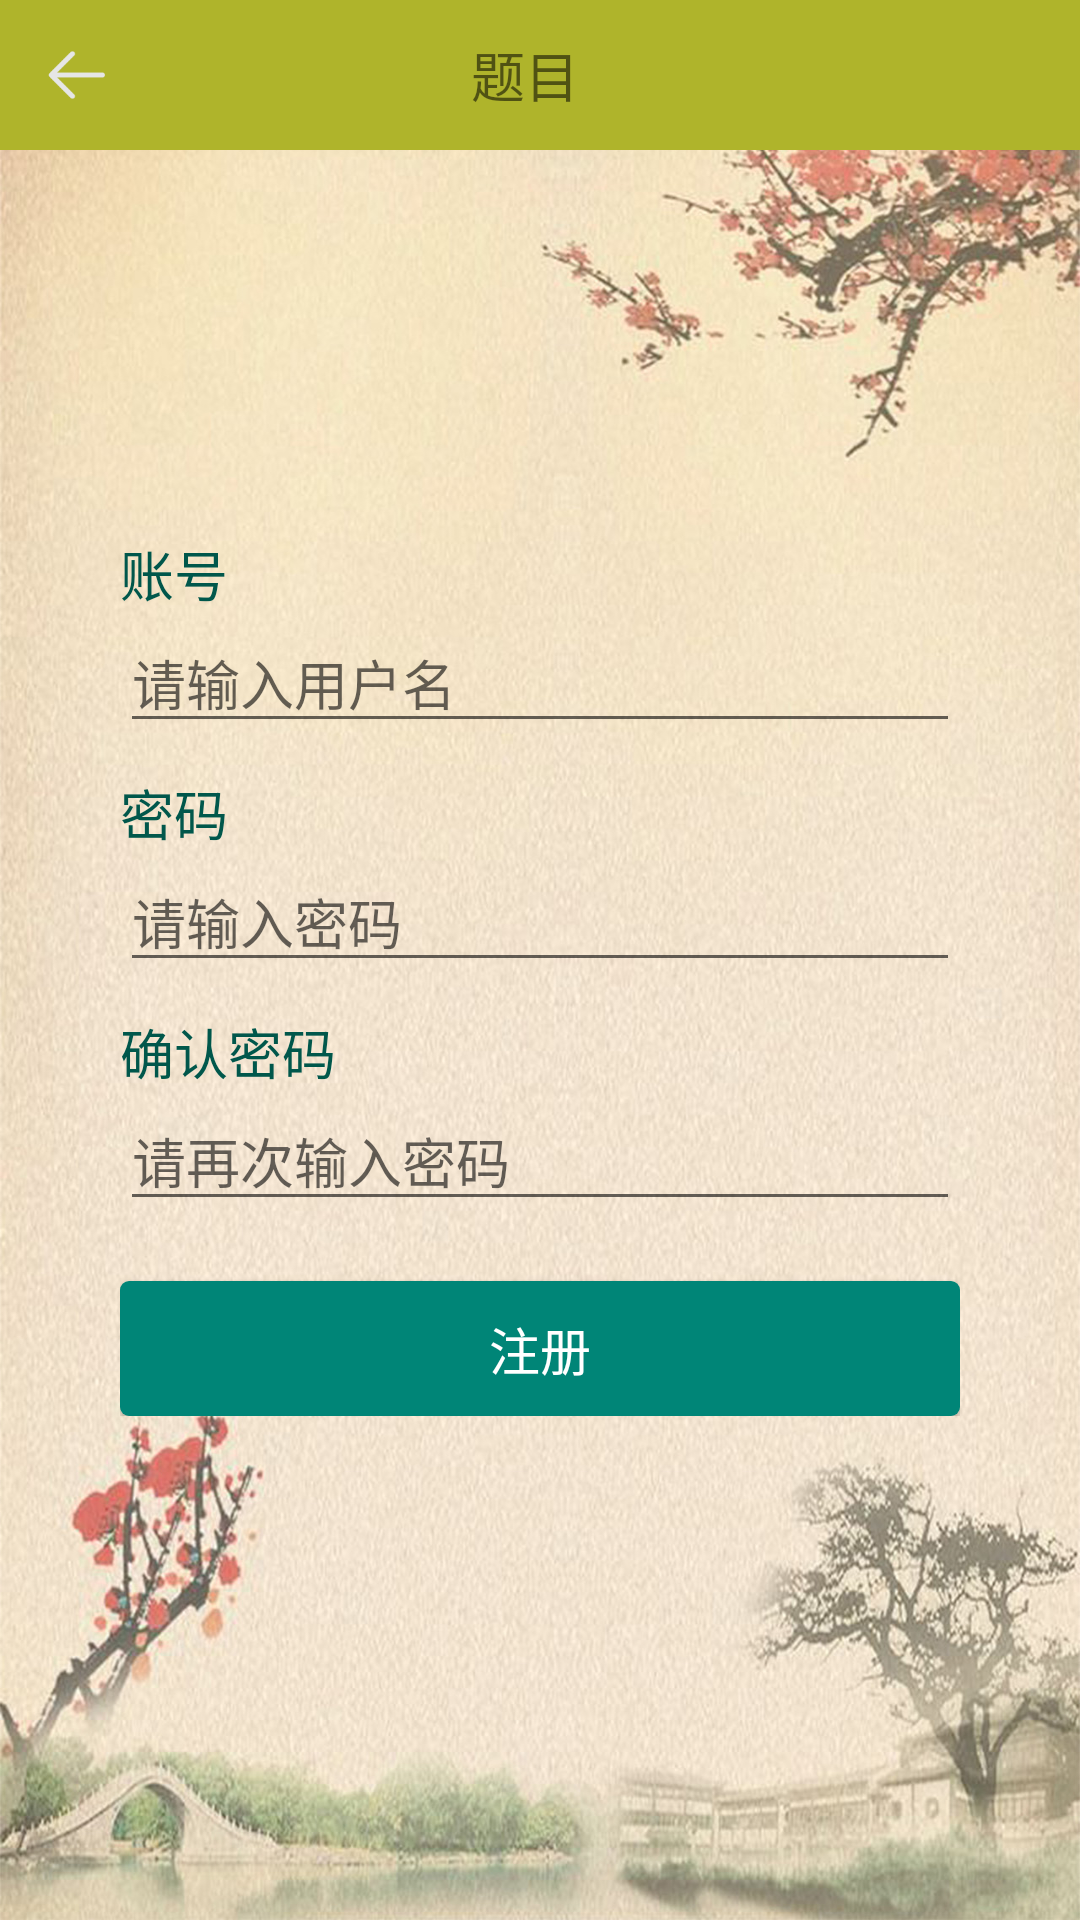

Named icons in this screenshot (1080*1920) and their bounding boxes, (x1, y1, x2, y2):
back: (48, 51, 105, 99)
